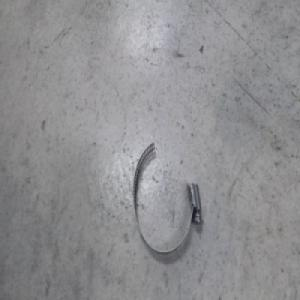AdjustableClamp: (131, 141, 201, 256)
